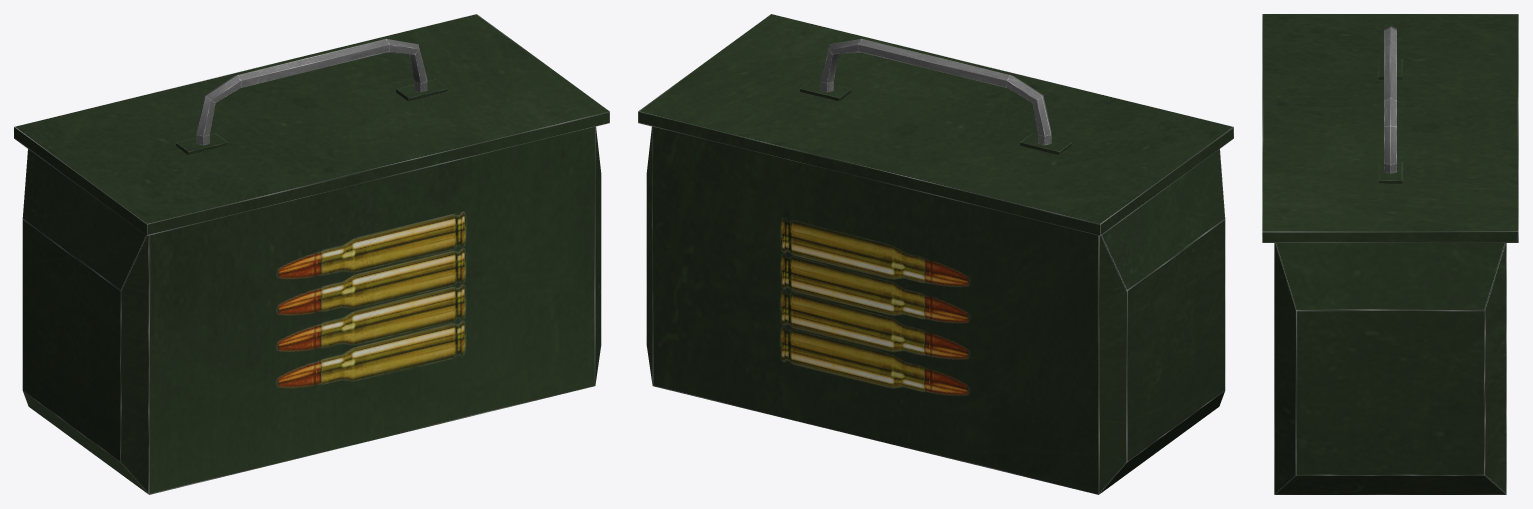
Rendered from AmmoBox.fbx.
The picture shows the model from 3 angles, left to right: view 1: azimuth 30°, elevation 25°; view 2: azimuth 150°, elevation 25°; view 3: azimuth 270°, elevation 25°; orthographic projection. The views are drawn at different scales.
Parts seen in each view (by area): view 1: Main; view 2: Main; view 3: Main.
Boxes of the visible parts, box(x1,y1,x2,y2) form: Main: box(14, 14, 609, 494); Main: box(638, 14, 1233, 494); Main: box(1262, 14, 1518, 494).
Size of the model in its own units: 3.63 by 2.45 by 1.74.
